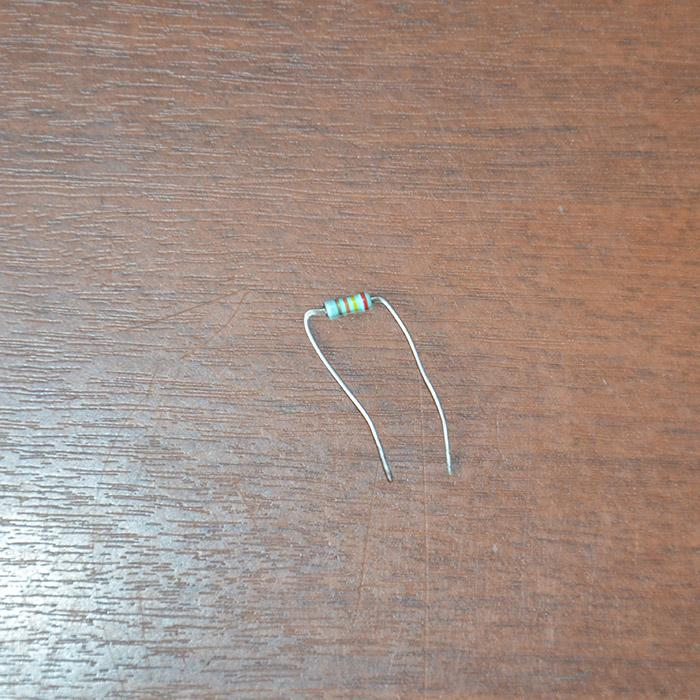resistor: (323, 290, 373, 318)
